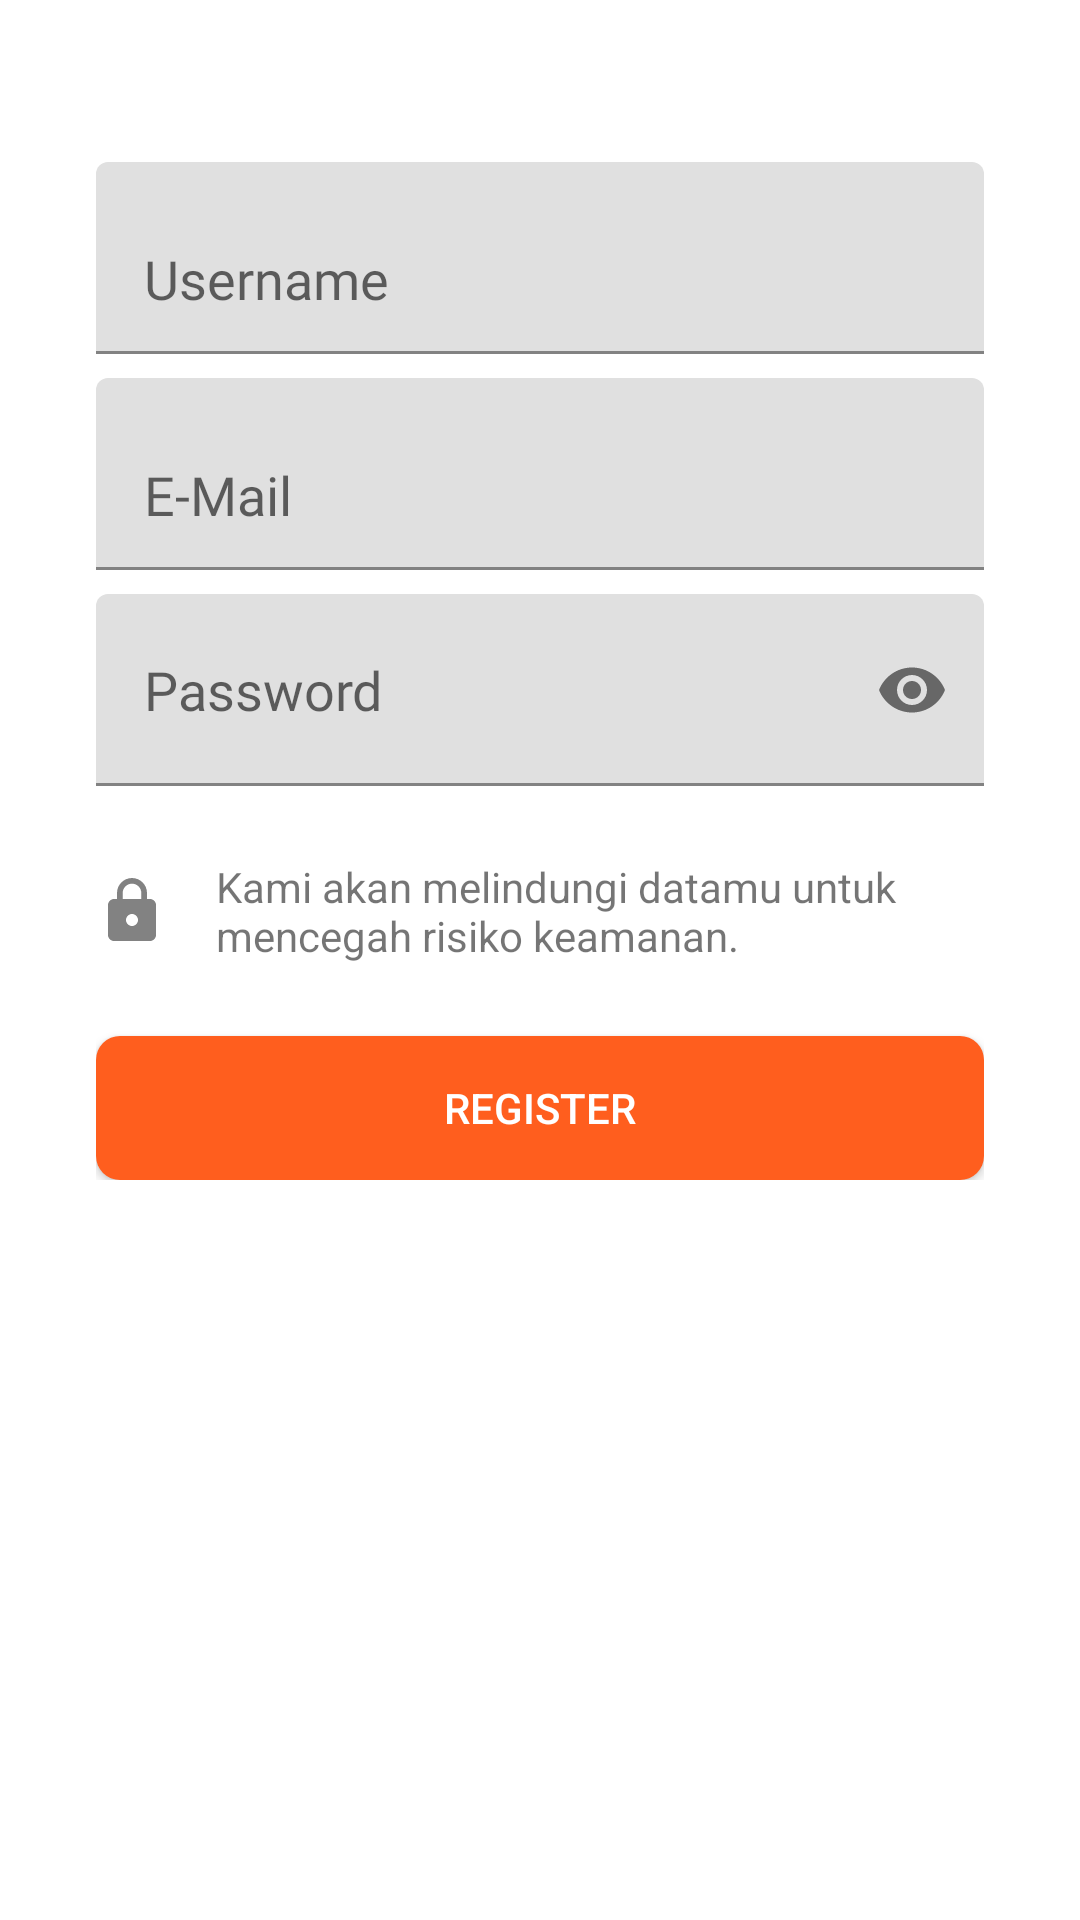

Screen size 1080px x 1920px. Icon name, then its center in pixels as point (x, y):
padlock: point (132, 909)
